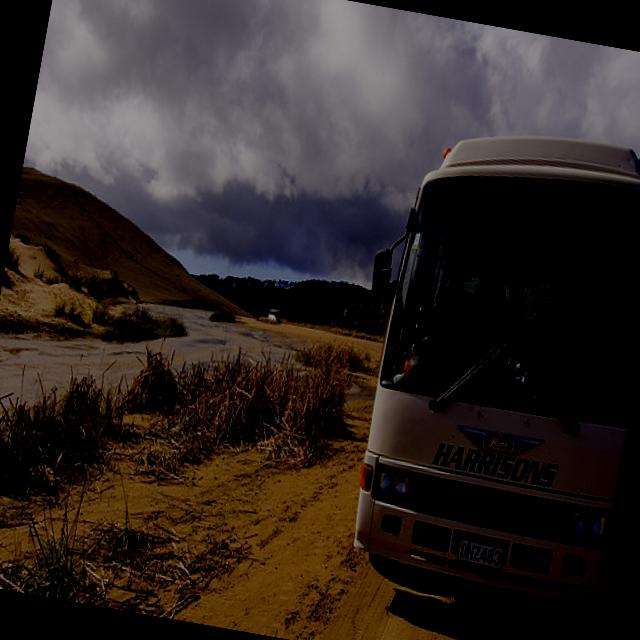Vehicle: (317, 105, 640, 618)
